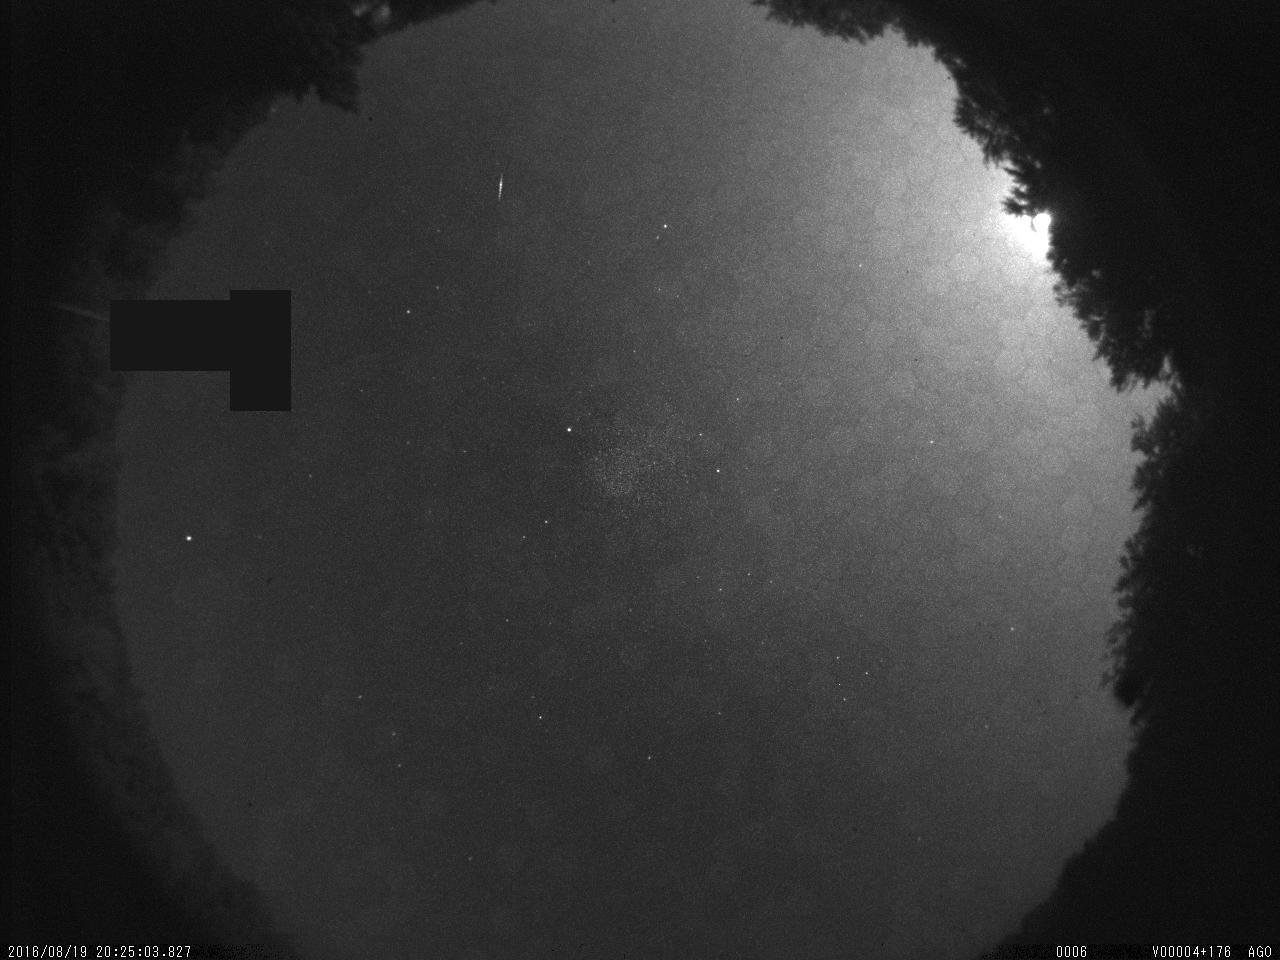meteor: (490, 168, 511, 210)
